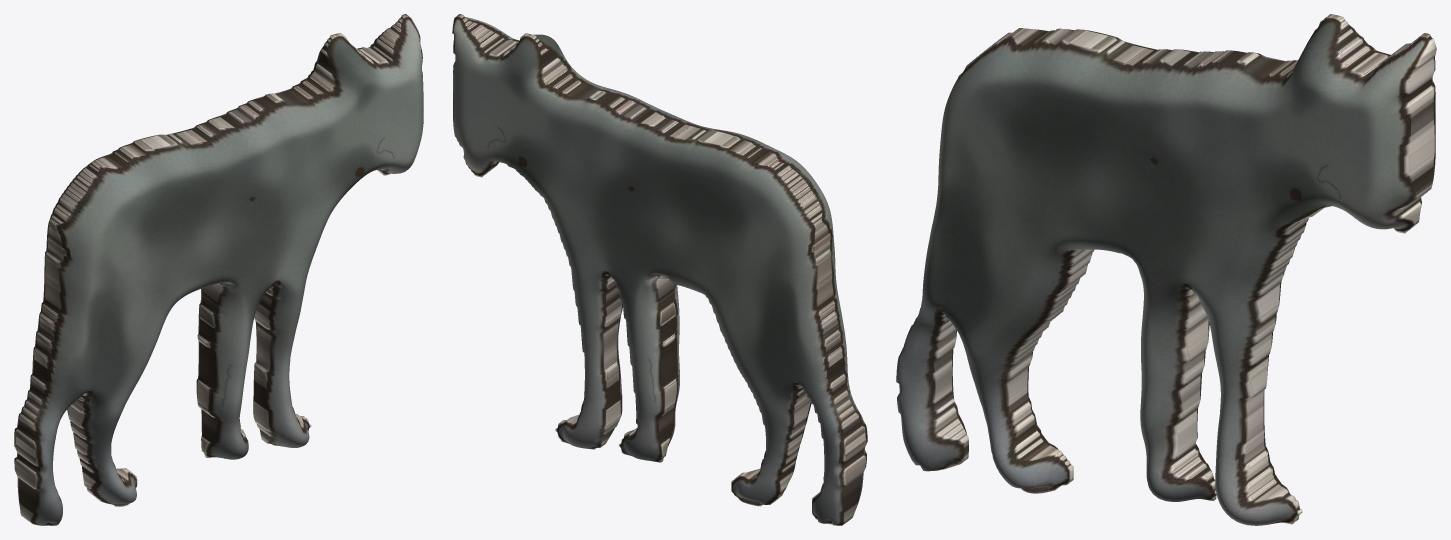
The model's file is grey_wolf_4909114.glb.
The picture shows the model from 3 angles, left to right: view 1: azimuth 30°, elevation 25°; view 2: azimuth 150°, elevation 25°; view 3: azimuth 330°, elevation 25°; orthographic projection. The views are drawn at different scales.
Parts seen in each view (by area): view 1: grey_wolf_4909114; view 2: grey_wolf_4909114; view 3: grey_wolf_4909114.
Part boxes in pixels (left/top/right/bottom): grey_wolf_4909114: left=14, top=14, right=423, bottom=525; grey_wolf_4909114: left=452, top=14, right=867, bottom=525; grey_wolf_4909114: left=896, top=14, right=1436, bottom=525.
Bounding box in the file's own units: 1.95 × 1.97 × 0.328.
Materials: 1 (1 with a texture image).
